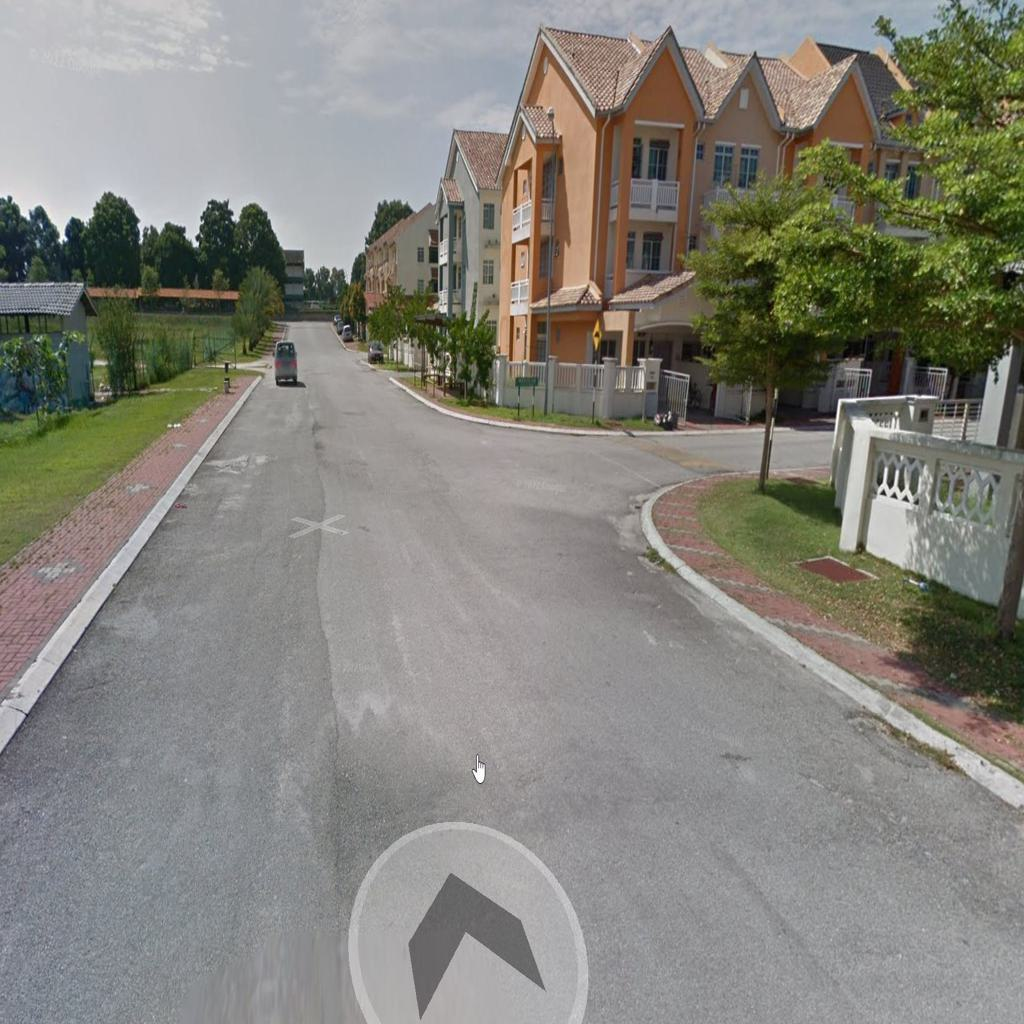Junction: (479, 378, 824, 575)
